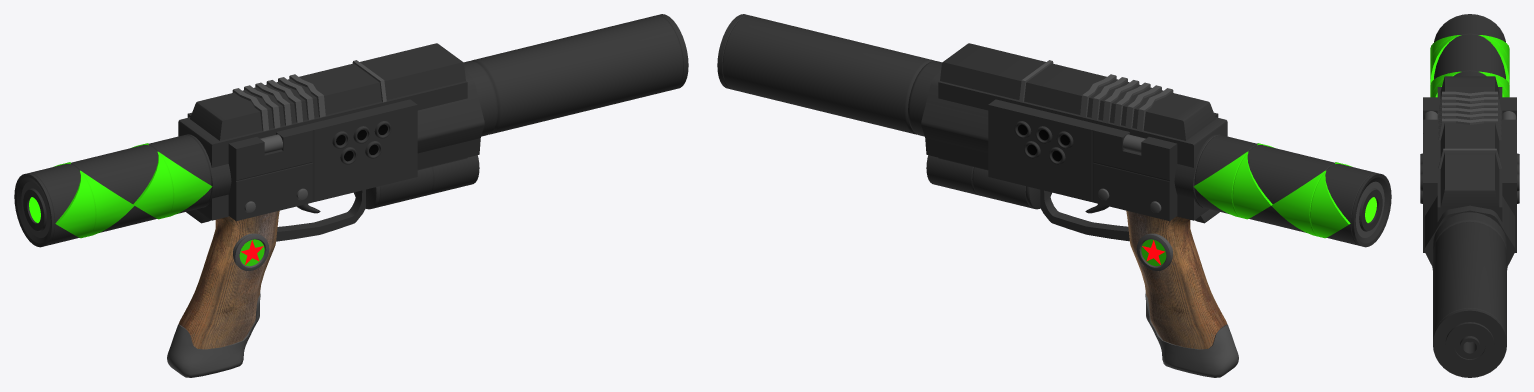
The model's file is NAILER.glb.
The picture shows the model from 3 angles, left to right: view 1: azimuth 30°, elevation 25°; view 2: azimuth 150°, elevation 25°; view 3: azimuth 270°, elevation 25°; orthographic projection. The views are drawn at different scales.
Parts seen in each view (by area): view 1: NAILER; view 2: NAILER; view 3: NAILER.
Boxes of the visible parts, bbox=[...] form: NAILER: bbox=[14, 14, 688, 377]; NAILER: bbox=[717, 14, 1391, 377]; NAILER: bbox=[1420, 14, 1519, 377].
Size of the model in its own units: 1.49 by 0.5639 by 0.2055.
Materials: 7 (1 with a texture image).
